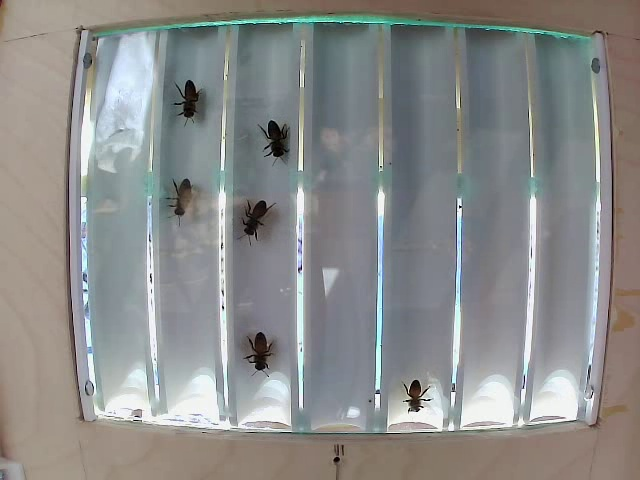bee: (234, 191, 284, 260), (230, 317, 286, 377), (160, 180, 218, 235), (167, 74, 213, 129), (400, 372, 442, 423), (247, 111, 286, 163)
